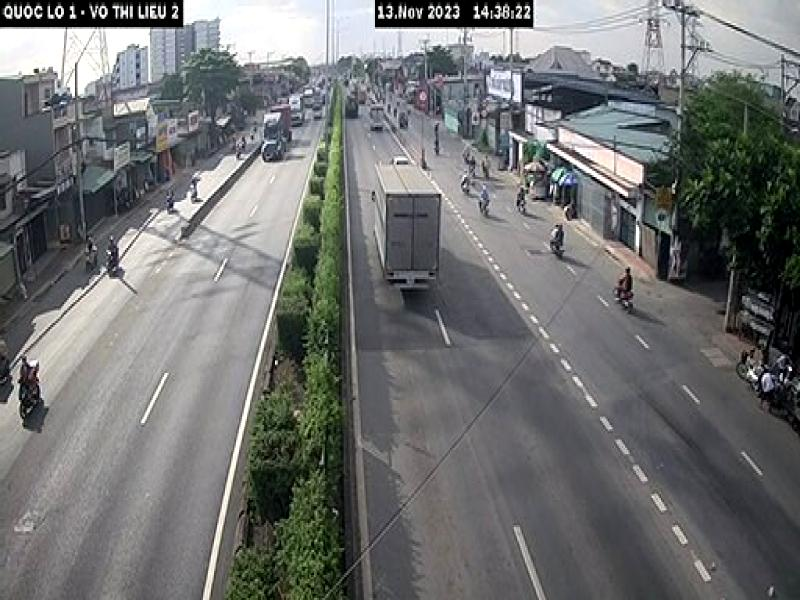truck: (370, 160, 441, 293)
